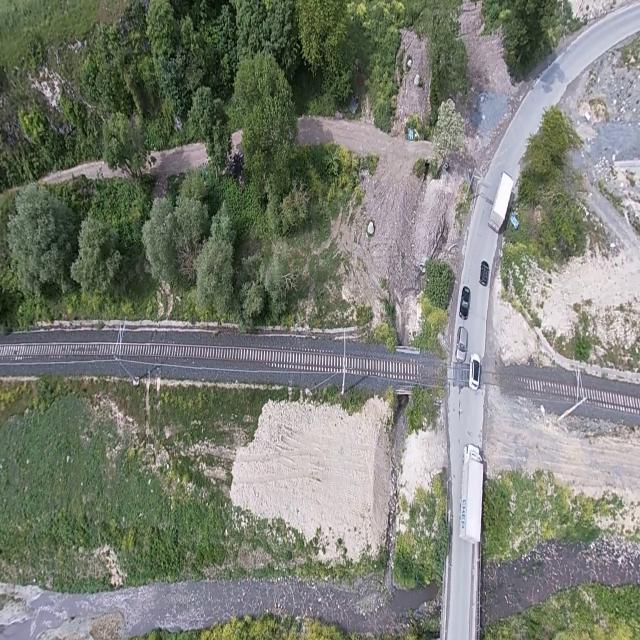vehicle: (458, 441, 484, 546), (487, 169, 514, 235), (454, 324, 468, 362), (468, 350, 480, 390), (458, 285, 470, 320), (478, 258, 489, 288)
